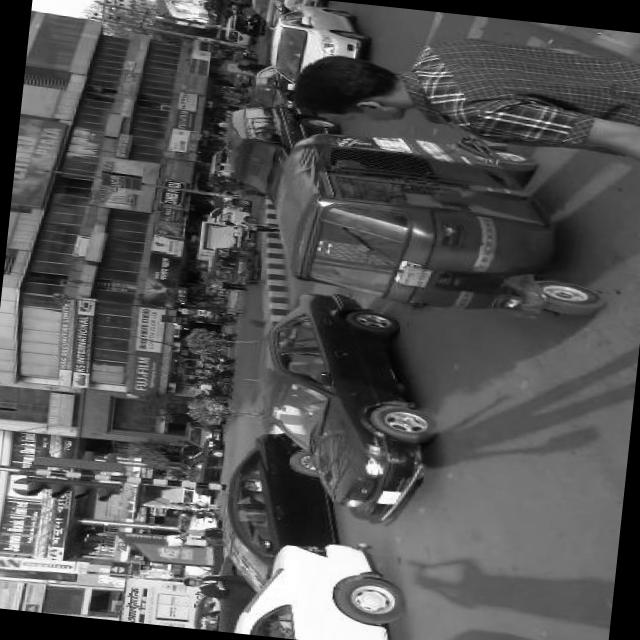car: (237, 282, 458, 531), (226, 527, 418, 640), (207, 422, 313, 592), (264, 0, 373, 98), (184, 433, 228, 499), (245, 66, 292, 110), (244, 0, 289, 29), (269, 0, 327, 14)
motorcycle: (260, 114, 630, 334), (206, 244, 264, 289), (203, 363, 235, 382), (206, 311, 237, 328), (200, 354, 236, 368)
truck: (192, 206, 261, 267)
